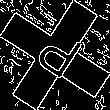P_SW: (26, 24, 84, 86)
